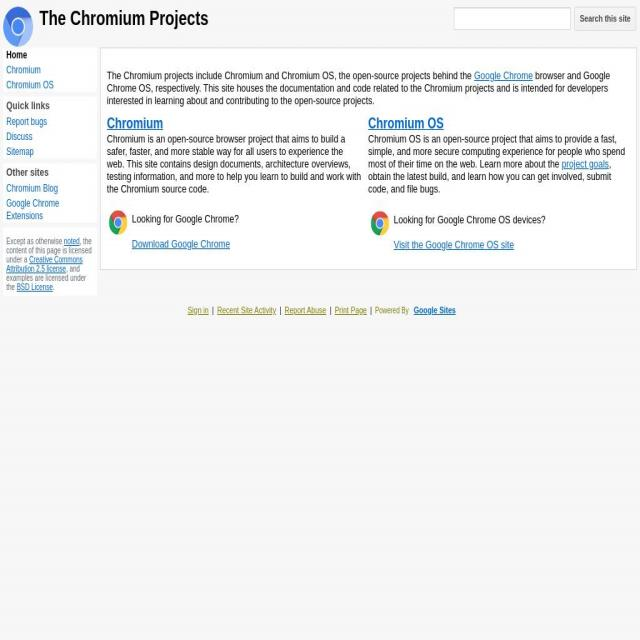navigation-links: (4, 50, 81, 230)
search: (449, 3, 635, 40)
